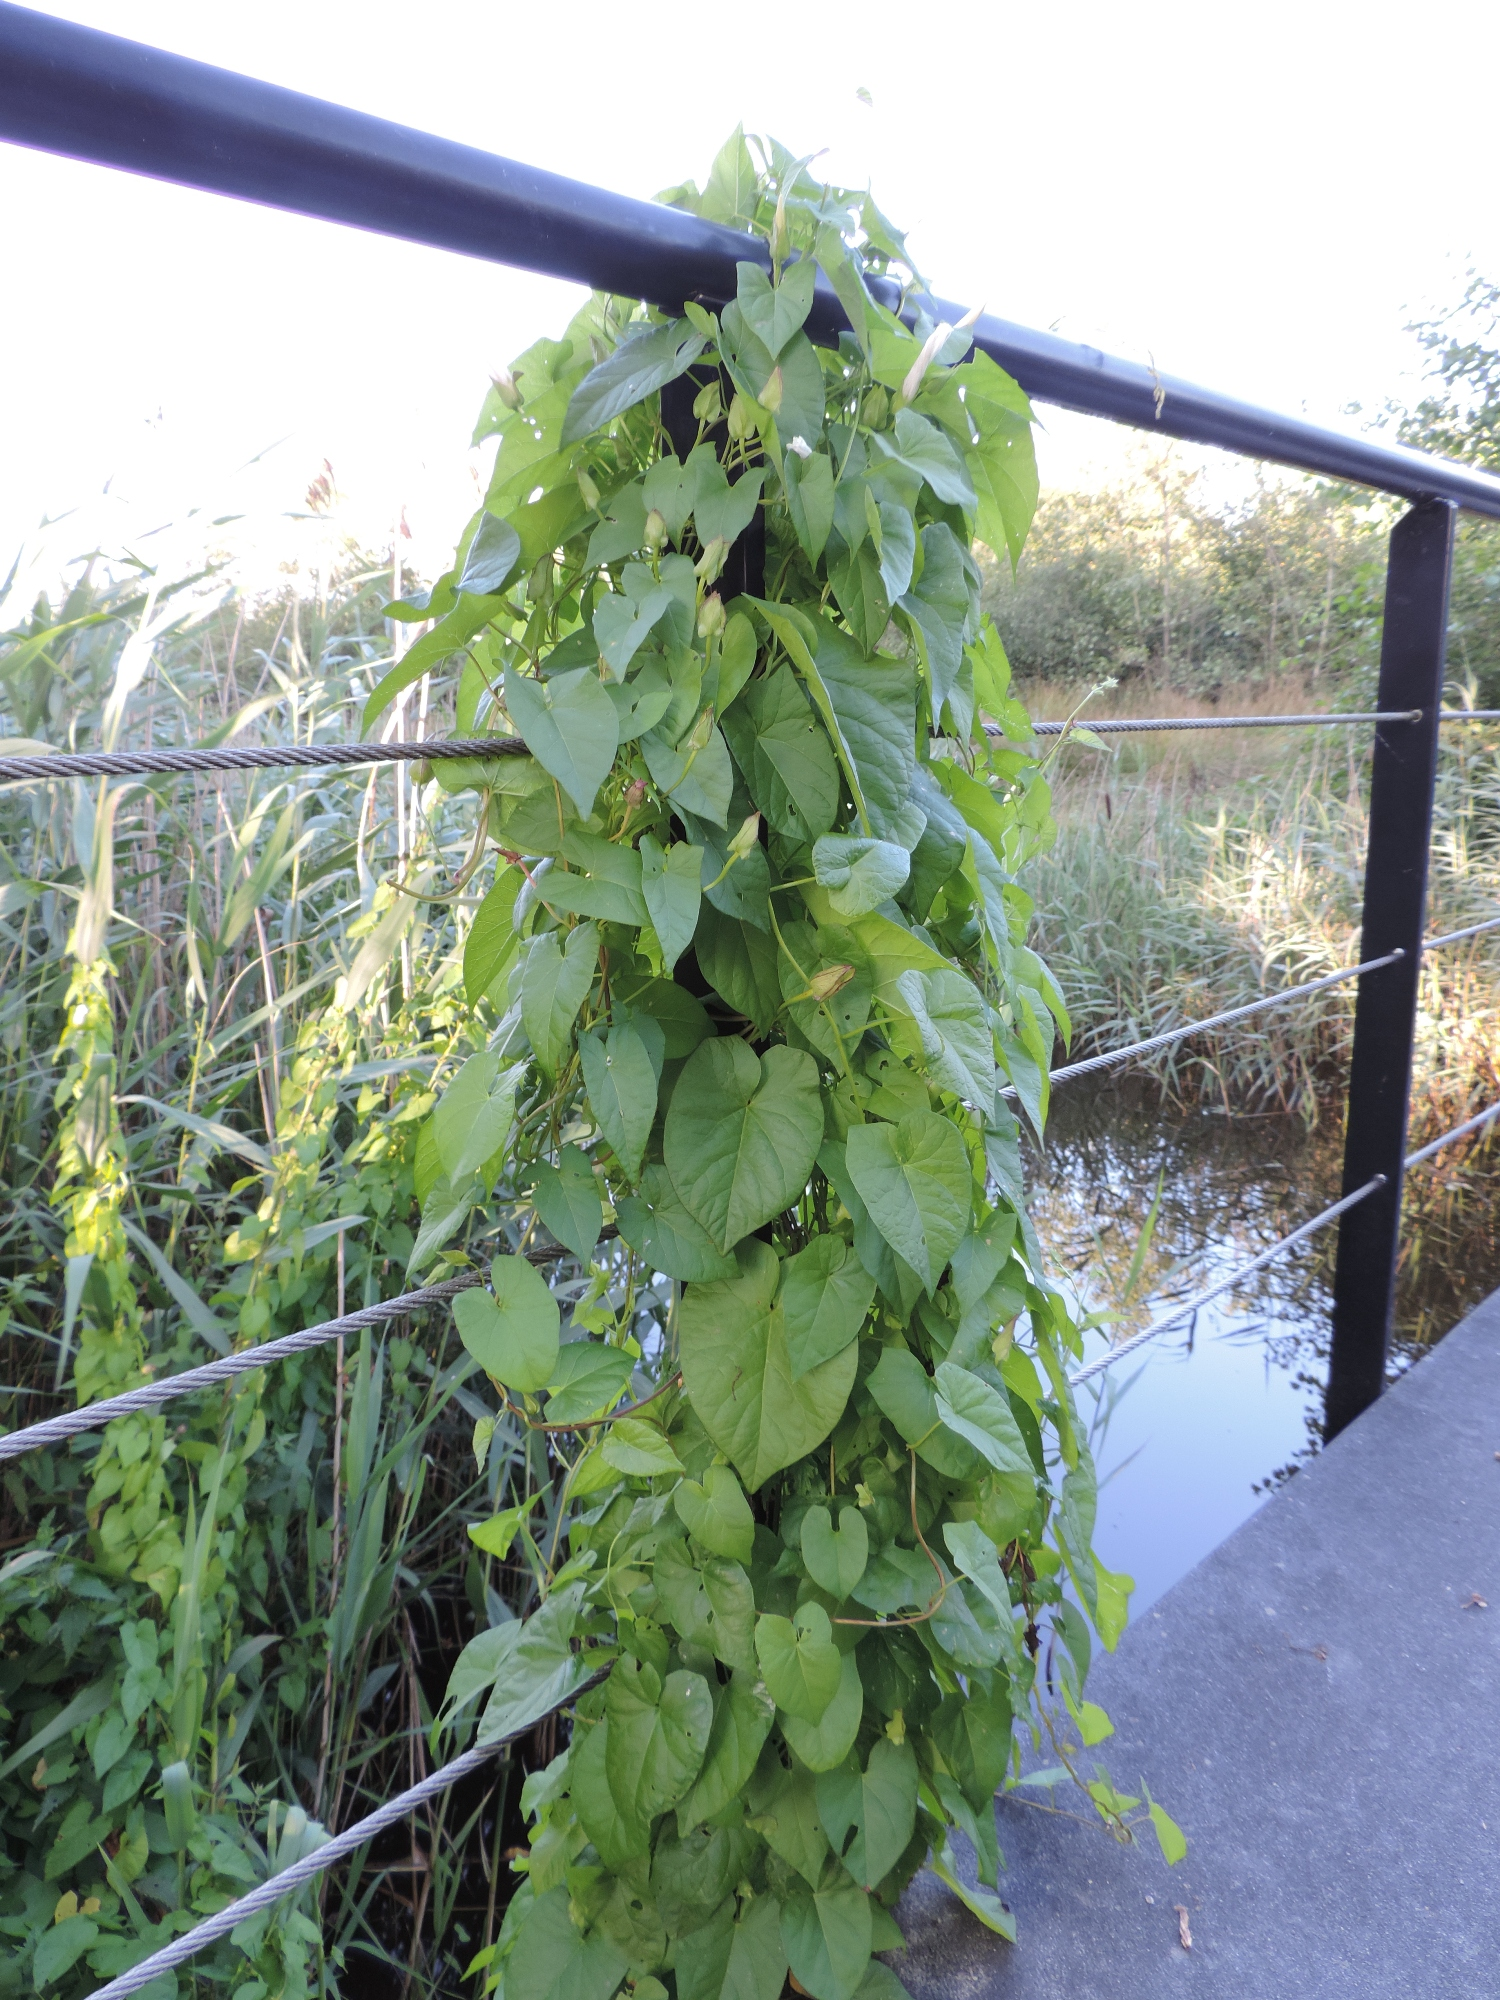haagwinde: (433, 80, 1220, 2000)
